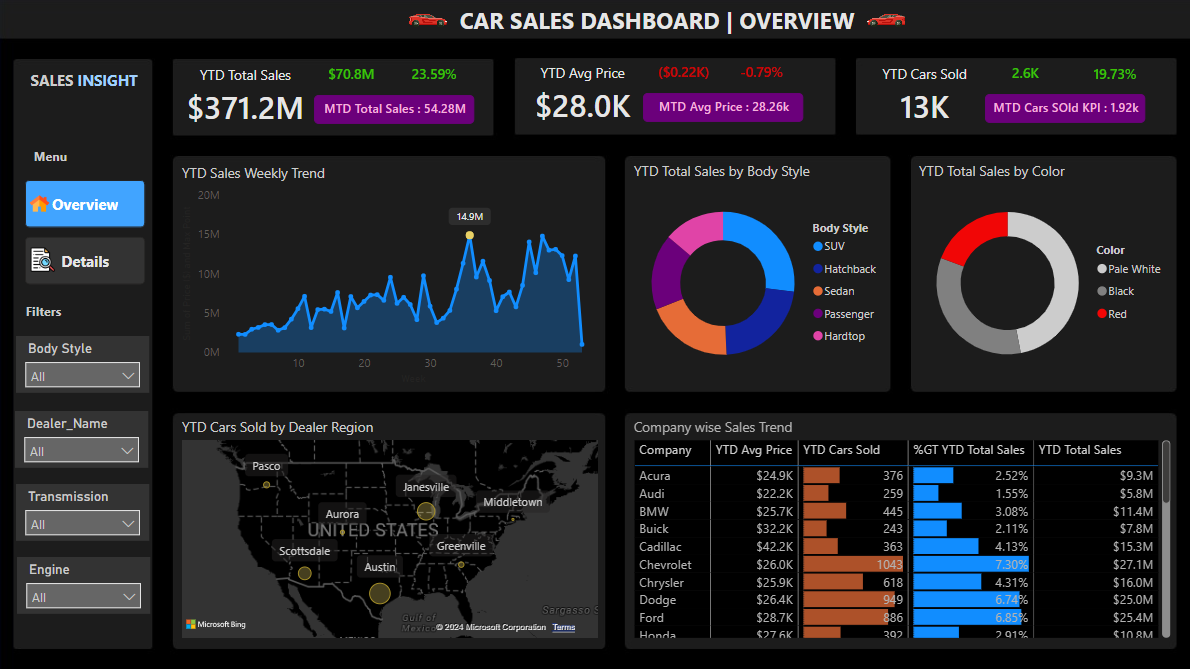

What the dashboard file says about the page in this screenshot:
{"tool":"powerbi","page":{"name":"Overview","canvas":[1280,720],"ordinal":0},"visuals":[{"type":"card","title":"YTD Total Sales","fields":{"Values":["New Measures.YTD Total Sales"]},"box":[191.1,70,146.7,70],"z":0},{"type":"pageNavigator","box":[27.7,193.4,129.2,112.7],"z":1000,"group":"g1"},{"type":"card","fields":{"Values":["New Measures.Sales Difference"]},"box":[345.4,67.8,64.4,27.8],"z":1000},{"type":"card","fields":{"Values":["New Measures.YoY Sales Growth"]},"box":[434.4,67.8,64.4,27.8],"z":2000},{"type":"image","box":[27.4,202.9,30.8,30.8],"z":3000,"group":"g1"},{"type":"card","fields":{"Values":["New Measures.MTD KPI"]},"box":[337.8,102.2,172.2,31.1],"z":3000},{"type":"card","title":"YTD Avg Price","fields":{"Values":["New Measures.YTD Avg Price"]},"box":[562.2,67.8,127.8,70],"z":4000},{"type":"image","box":[28.2,258.7,35.8,39.2],"z":5000,"group":"g1"},{"type":"card","fields":{"Values":["New Measures.Avg Price Difference"]},"box":[695.6,65.6,77.8,27.8],"z":5000},{"type":"card","fields":{"Values":["New Measures.YoY Avg Price Growth"]},"box":[785.6,65.6,64.4,27.8],"z":6000},{"type":"card","fields":{"Values":["New Measures.MTD Avg Price KPI"]},"box":[691.1,100,172.2,31.1],"z":7000},{"type":"card","title":"YTD Cars Sold","fields":{"Values":["New Measures.YTD Cars Sold"]},"box":[929,68.9,127.8,70],"z":8000},{"type":"card","fields":{"Values":["New Measures.Cars sold difference"]},"box":[1062.3,66.7,77.8,27.8],"z":9000},{"type":"card","fields":{"Values":["New Measures.MTD Cars Sold KPI"]},"box":[1057.9,101.1,172.2,31.1],"z":10000},{"type":"card","fields":{"Values":["New Measures.YoY Car Sold Growth"]},"box":[1165.5,67.7,64.2,28],"z":11000},{"type":"areaChart","title":"YTD Sales Weekly Trend","fields":{"Category":["Calendar Table.Week"],"Y":["Sum(car_data.Price ($))","New Measures.Max Point"]},"box":[191.1,174.4,456.7,242.2],"z":12000},{"type":"donutChart","fields":{"Category":["car_data.Body Style"],"Y":["New Measures.YTD Total Sales"]},"box":[675.6,172.2,278.9,242.2],"z":13000},{"type":"donutChart","fields":{"Y":["New Measures.YTD Total Sales"],"Category":["car_data.Color"]},"box":[982.2,172.2,278.9,242.2],"z":14000},{"type":"map","title":"YTD Cars Sold by Dealer Region","fields":{"Category":["car_data.Dealer_Region"],"Size":["New Measures.YTD Cars Sold"]},"box":[191.1,447.8,456.7,242.2],"z":15000},{"type":"tableEx","title":"Company wise Sales Trend","fields":{"Values":["car_data.Company","New Measures.YTD Avg Price","New Measures.YTD Cars Sold","New Measures.YTD Total Sales","New Measures.YTD Total Sales1"]},"box":[675.6,447.8,585.6,242.2],"z":16000},{"type":"textbox","box":[21.1,70,140,35.6],"z":17000},{"type":"textbox","box":[489.6,0,450.8,44.3],"z":18000},{"type":"image","box":[434.4,0,52.2,44.4],"z":19000},{"type":"image","box":[926,0,52,44.4],"z":20000},{"type":"slicer","fields":{"Values":["car_data.Body Style"]},"box":[17.8,361,143.3,61.1],"z":21000},{"type":"textbox","box":[23.3,320,56.7,28.9],"z":22000},{"type":"slicer","fields":{"Values":["car_data.Dealer_Name"]},"box":[17.6,440.7,143.3,61.1],"z":23000},{"type":"slicer","fields":{"Values":["car_data.Dealer_Name","car_data.Engine"]},"box":[18.9,597.9,143.3,61.1],"z":24000},{"type":"slicer","fields":{"Values":["car_data.Transmission"]},"box":[17.8,519,143.3,61.1],"z":25000},{"type":"group","id":"g1","title":"Group 1","box":[27.4,193.4,129.5,112.7],"z":26000},{"type":"textbox","box":[32.2,153.3,60,28.9],"z":26001}]}

Visuals, with their boxes in screenshot pixels (x1, y1, x2, y2), scaled from the page's 1280x720 canvas onto the 1190x669 screenshot:
"YTD Total Sales" card: select_region(178, 65, 314, 130)
pageNavigator: select_region(26, 180, 146, 284)
card - New Measures.Sales Difference: select_region(321, 63, 381, 89)
card - New Measures.YoY Sales Growth: select_region(404, 63, 464, 89)
image: select_region(25, 189, 54, 217)
card - New Measures.MTD KPI: select_region(314, 95, 474, 124)
"YTD Avg Price" card: select_region(523, 63, 641, 128)
image: select_region(26, 240, 60, 277)
card - New Measures.Avg Price Difference: select_region(647, 61, 719, 87)
card - New Measures.YoY Avg Price Growth: select_region(730, 61, 790, 87)
card - New Measures.MTD Avg Price KPI: select_region(643, 93, 803, 122)
"YTD Cars Sold" card: select_region(864, 64, 982, 129)
card - New Measures.Cars sold difference: select_region(988, 62, 1060, 88)
card - New Measures.MTD Cars Sold KPI: select_region(984, 94, 1144, 123)
card - New Measures.YoY Car Sold Growth: select_region(1084, 63, 1143, 89)
"YTD Sales Weekly Trend" areaChart: select_region(178, 162, 602, 387)
donutChart - car_data.Body Style x New Measures.YTD Total Sales: select_region(628, 160, 887, 385)
donutChart - New Measures.YTD Total Sales x car_data.Color: select_region(913, 160, 1172, 385)
"YTD Cars Sold by Dealer Region" map: select_region(178, 416, 602, 641)
"Company wise Sales Trend" tableEx: select_region(628, 416, 1173, 641)
textbox: select_region(20, 65, 150, 98)
textbox: select_region(455, 0, 874, 41)
image: select_region(404, 0, 452, 41)
image: select_region(861, 0, 909, 41)
slicer - car_data.Body Style: select_region(17, 335, 150, 392)
textbox: select_region(22, 297, 74, 324)
slicer - car_data.Dealer_Name: select_region(16, 409, 150, 466)
slicer - car_data.Dealer_Name x car_data.Engine: select_region(18, 556, 151, 612)
slicer - car_data.Transmission: select_region(17, 482, 150, 539)
"Group 1" group: select_region(25, 180, 146, 284)
textbox: select_region(30, 142, 86, 169)
